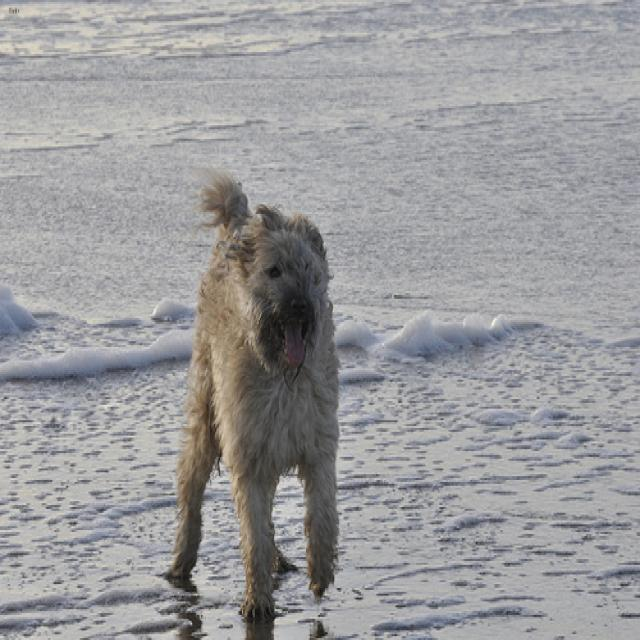dog-wheaten_terrier: (155, 166, 349, 634)
